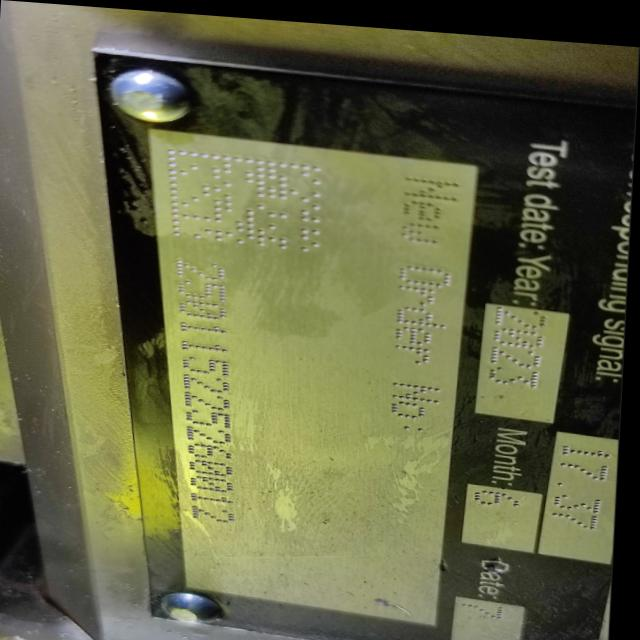dmc: (168, 146, 323, 249)
